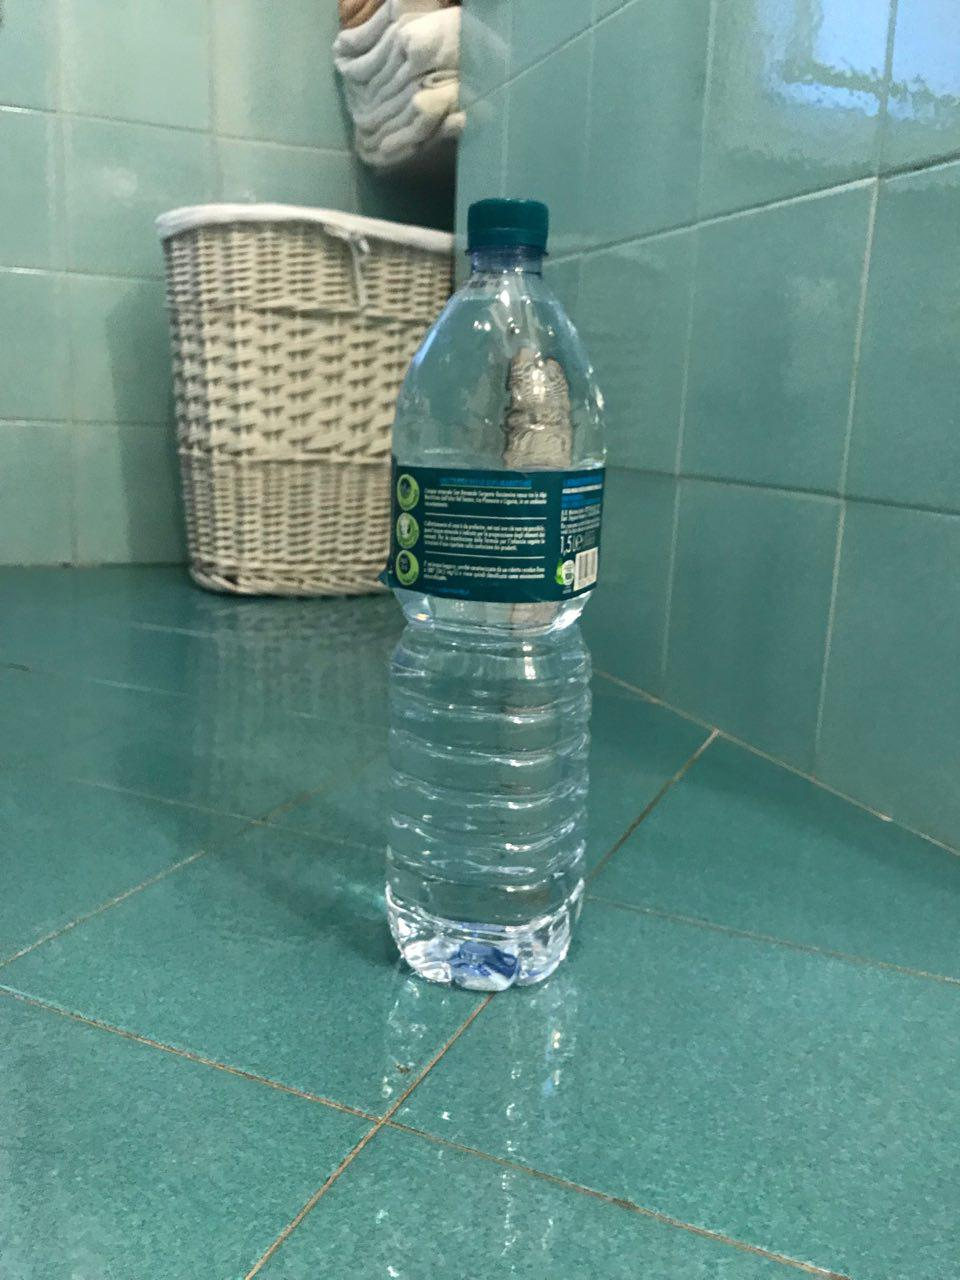san_bernardo: (386, 197, 609, 994)
